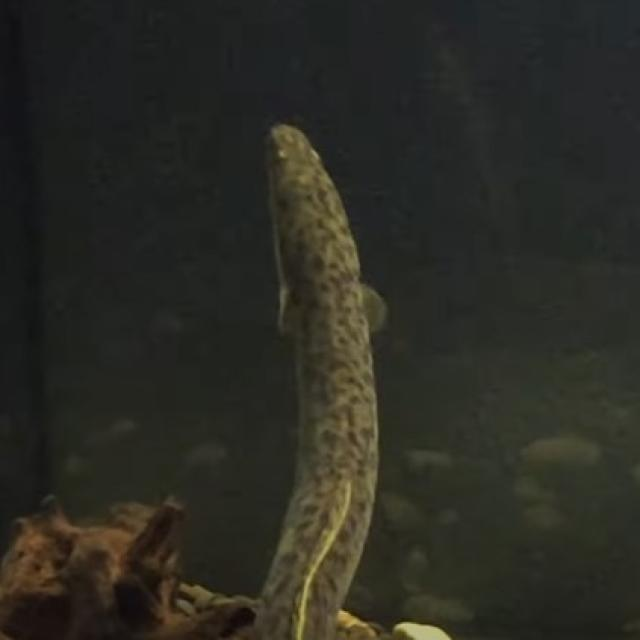Freshwater-Eel: (202, 103, 541, 640)
